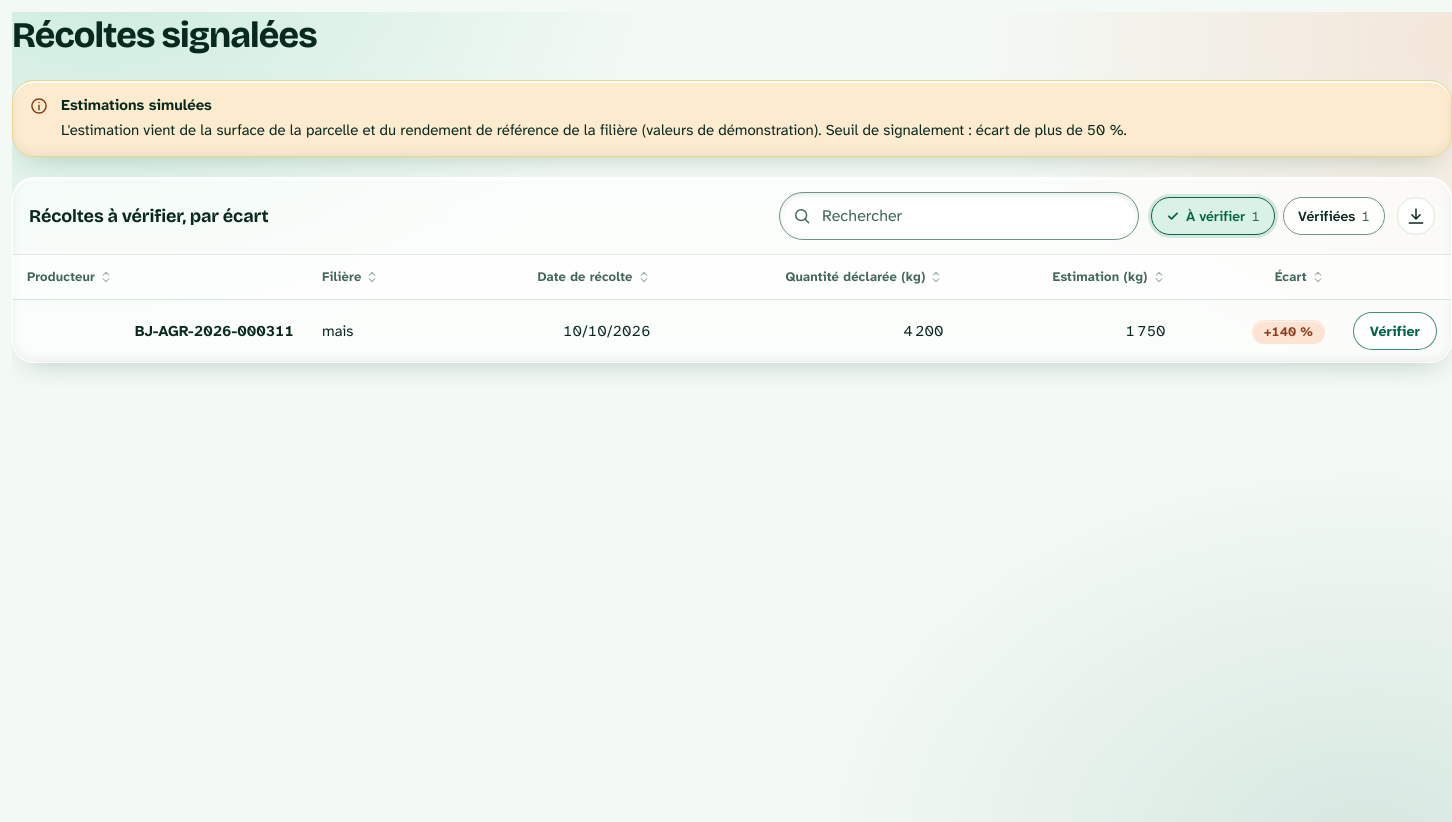
Test: Récoltes signalées › l'onglet « Vérifiées » montre la conclusion et son motif
Click the button "Vérifiées 1".
click(1334, 216)  # box [1283,197,1385,235]
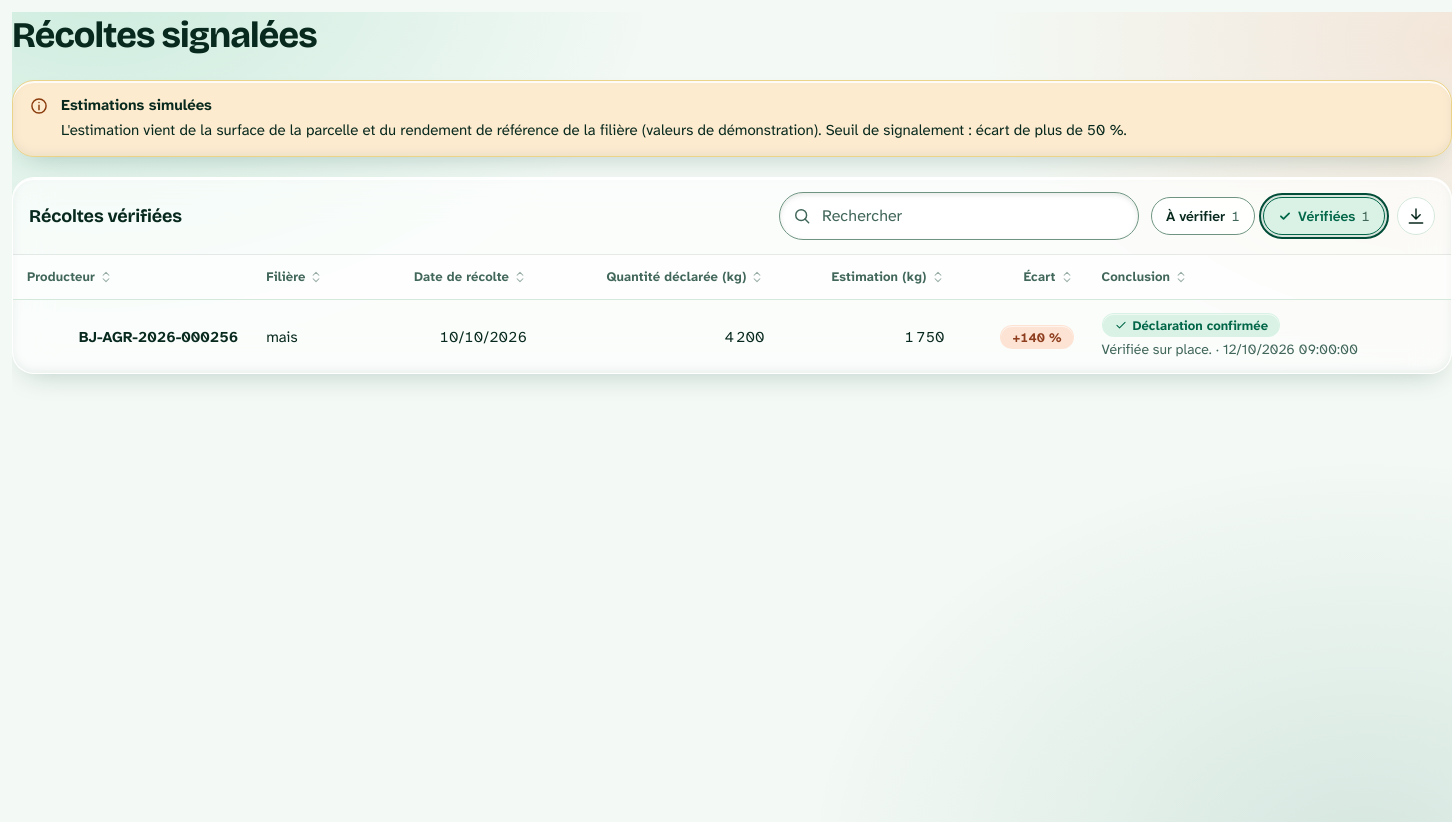
Expected: the text "Déclaration confirmée" is shown, [1102,313,1280,337]
Expected: the text "Vérifiée sur place. · 12/10/2026 09:00:00" is shown, [1102,340,1358,358]
